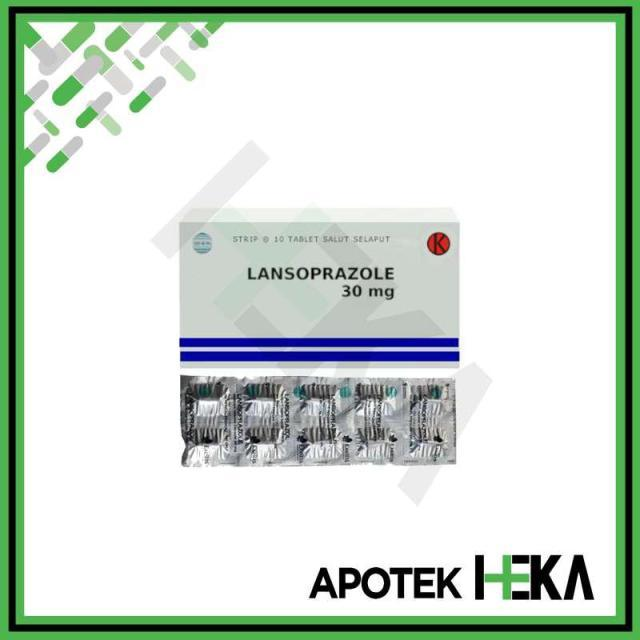drug-name: (244, 261, 398, 285)
